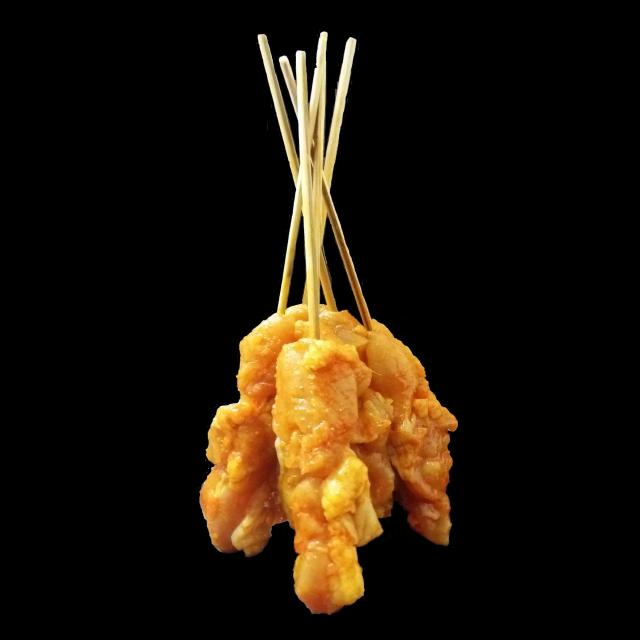Sate: (166, 68, 526, 619)
